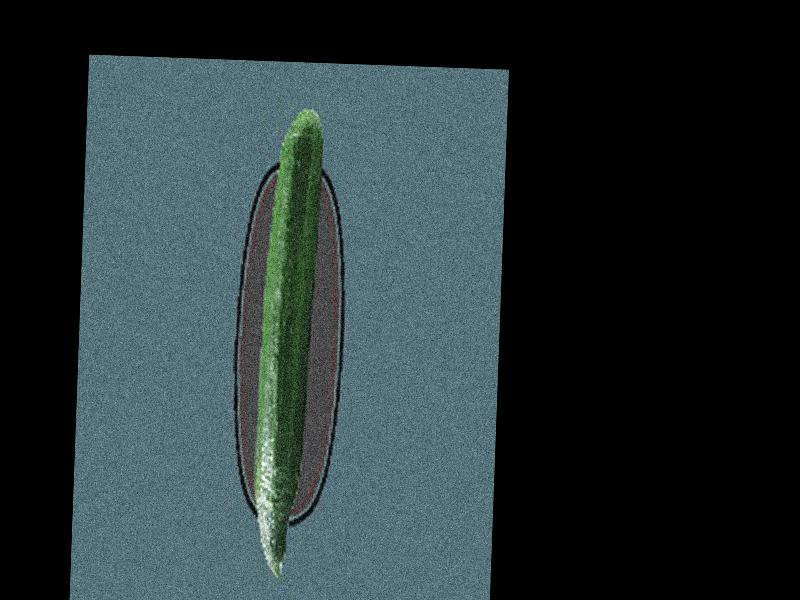Cucumber: (252, 105, 326, 578)
